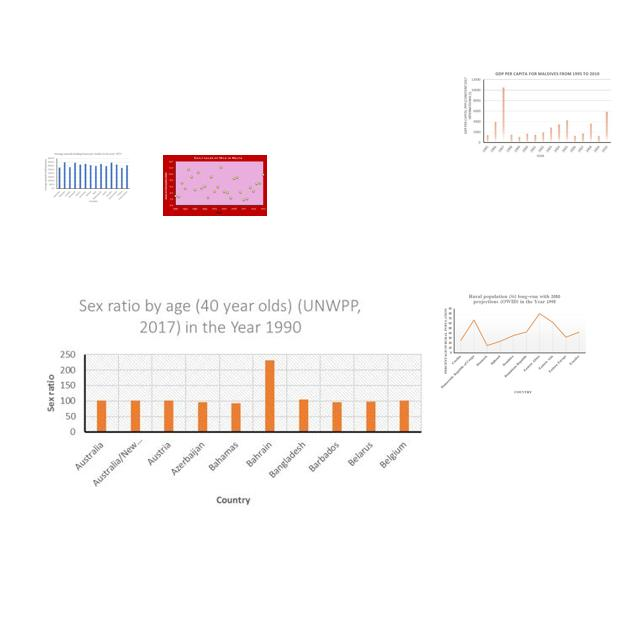Graph: (34, 292, 424, 512), (440, 293, 588, 395), (461, 70, 613, 159), (163, 155, 267, 216), (44, 152, 131, 203)
